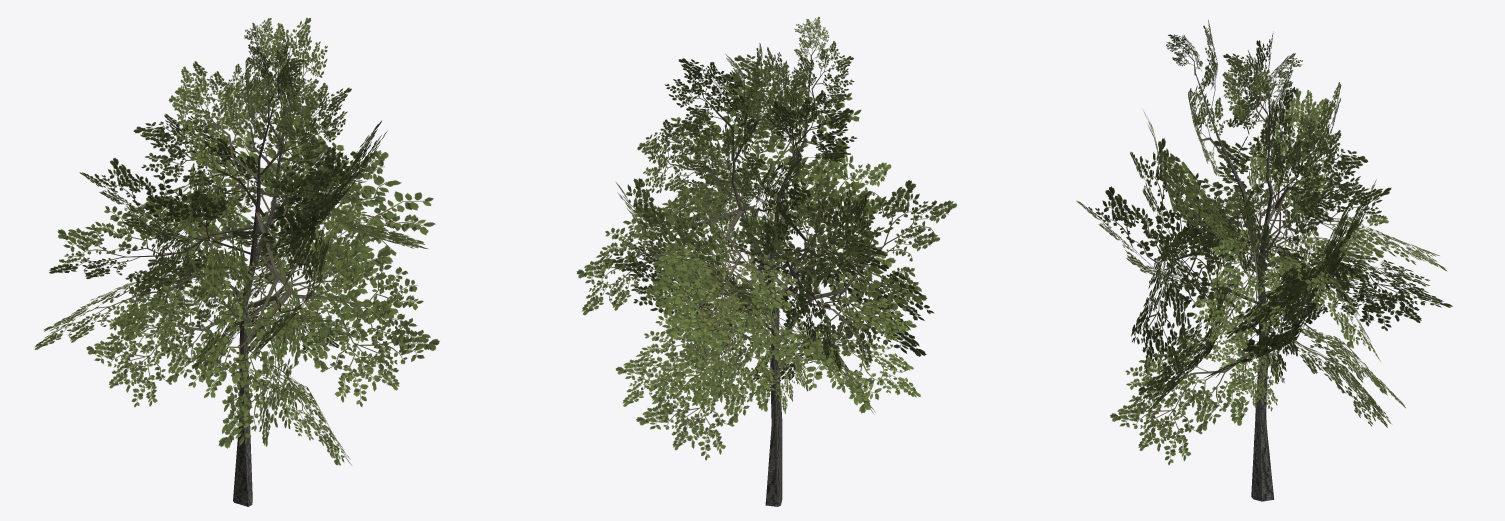
File: tree.gltf
The picture shows the model from 3 angles, left to right: view 1: azimuth 30°, elevation 25°; view 2: azimuth 150°, elevation 25°; view 3: azimuth 270°, elevation 25°; orthographic projection. The views are drawn at different scales.
Parts seen in each view (by area): view 1: Tree-01-3; view 2: Tree-01-3; view 3: Tree-01-3.
Part boxes in pixels (left/top/right/bottom): Tree-01-3: left=34, top=17, right=439, bottom=506; Tree-01-3: left=576, top=16, right=957, bottom=506; Tree-01-3: left=1076, top=20, right=1452, bottom=501.
Bounding box in the file's own units: 7.27 × 7.51 × 6.21.
3 materials, 3 textured.
